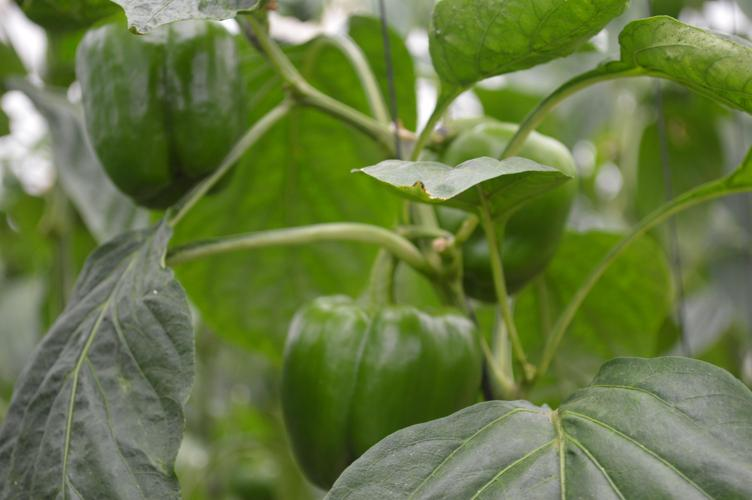BellPepper: (268, 294, 491, 479), (80, 10, 255, 217), (411, 114, 577, 312)
